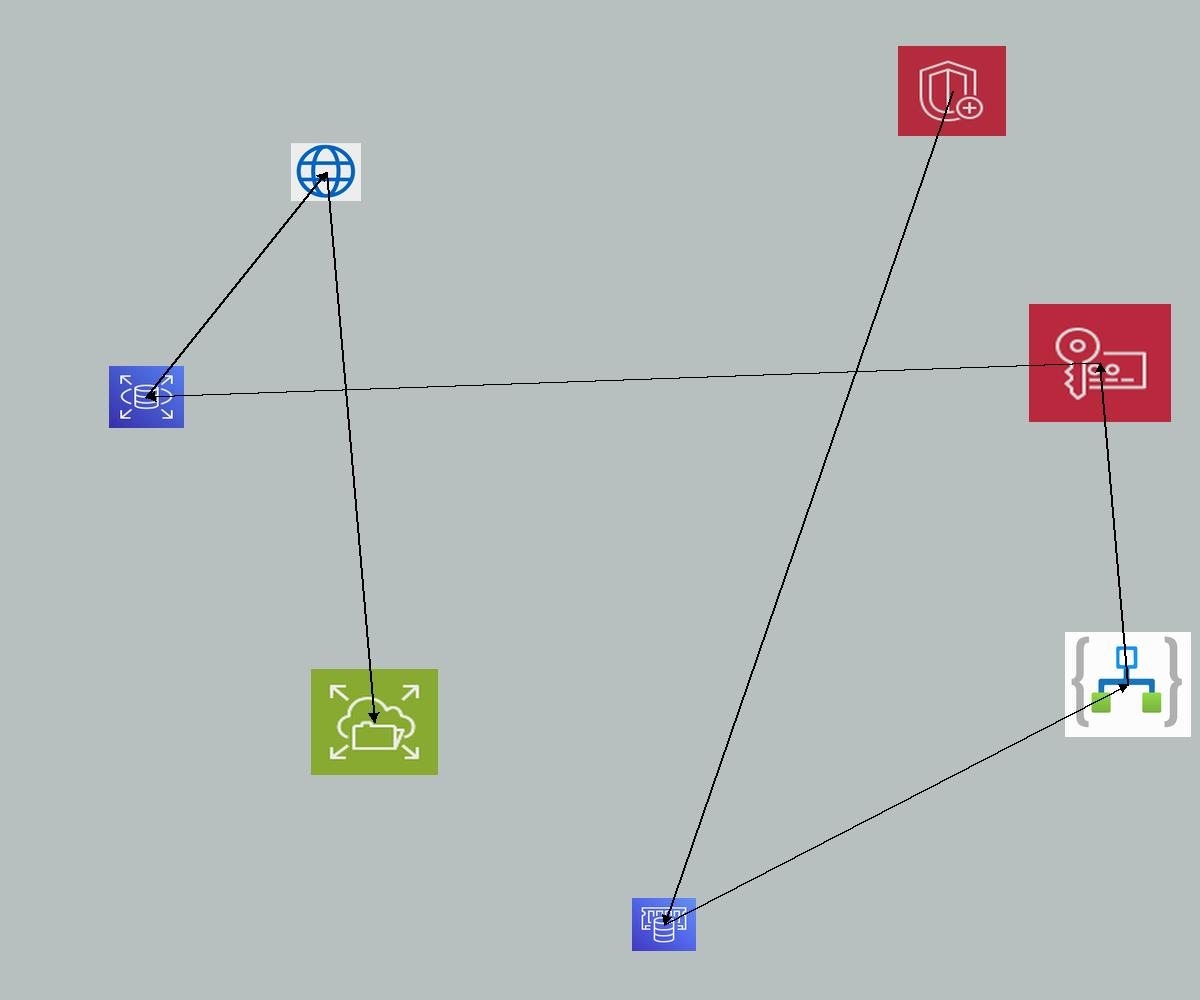AWS-EFS: (311, 669, 438, 775)
AWS-ElastiCache: (632, 898, 696, 951)
AWS-Key-Management-Service: (1029, 304, 1171, 422)
AWS-RDS: (109, 366, 184, 428)
AWS-Shield: (898, 46, 1006, 136)
Azure_http: (291, 143, 361, 201)
Azure_integration-204-Logic-Apps: (1065, 632, 1191, 737)
